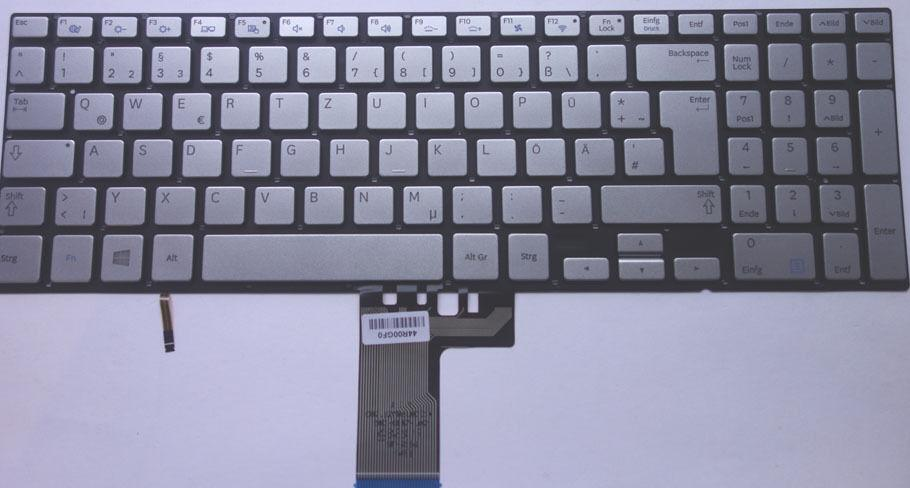0: (485, 42, 527, 82)
1: (50, 43, 92, 82)
2: (98, 43, 141, 83)
3: (146, 43, 190, 82)
4: (196, 43, 238, 82)
5: (244, 43, 286, 82)
6: (293, 43, 334, 82)
7: (341, 43, 384, 82)
8: (389, 42, 431, 82)
9: (437, 42, 479, 82)
a: (79, 136, 122, 176)
accent: (583, 41, 625, 80)
ae: (571, 135, 613, 174)
alt-left: (148, 231, 192, 280)
altgr-right: (449, 230, 498, 279)
b: (299, 183, 343, 223)
c: (200, 183, 243, 223)
caret: (6, 43, 43, 82)
comma: (447, 182, 491, 223)
d: (178, 136, 220, 176)
del: (634, 40, 716, 80)
e: (168, 89, 210, 129)
enter: (656, 86, 717, 174)
f: (227, 136, 269, 175)
g: (276, 135, 318, 175)
h: (325, 136, 367, 175)
hash: (620, 134, 663, 174)
i: (412, 88, 453, 127)
j: (374, 135, 416, 175)
k: (423, 135, 465, 175)
keyboard: (1, 4, 910, 297)
l: (473, 135, 514, 175)
less: (51, 183, 95, 224)
m: (398, 182, 441, 223)
minus: (547, 183, 590, 222)
n: (349, 182, 391, 222)
o: (459, 88, 501, 127)
oe: (521, 134, 563, 174)
p: (508, 87, 550, 127)
plus: (605, 87, 649, 127)
point: (498, 182, 540, 222)
q: (69, 89, 112, 129)
r: (216, 89, 258, 128)
s: (128, 136, 171, 175)
shift-left: (1, 183, 44, 225)
shift-lock: (1, 135, 73, 176)
shift-right: (596, 181, 721, 222)
space: (197, 230, 444, 281)
ss: (533, 42, 576, 81)
strg-left: (1, 231, 40, 282)
strg-right: (504, 230, 548, 280)
t: (265, 89, 307, 128)
tab: (3, 88, 63, 128)
u: (362, 88, 403, 128)
ue: (557, 88, 599, 127)
v: (250, 183, 292, 223)
w: (118, 89, 161, 128)
x: (151, 183, 194, 224)
y: (102, 183, 145, 224)
z: (314, 88, 356, 128)
